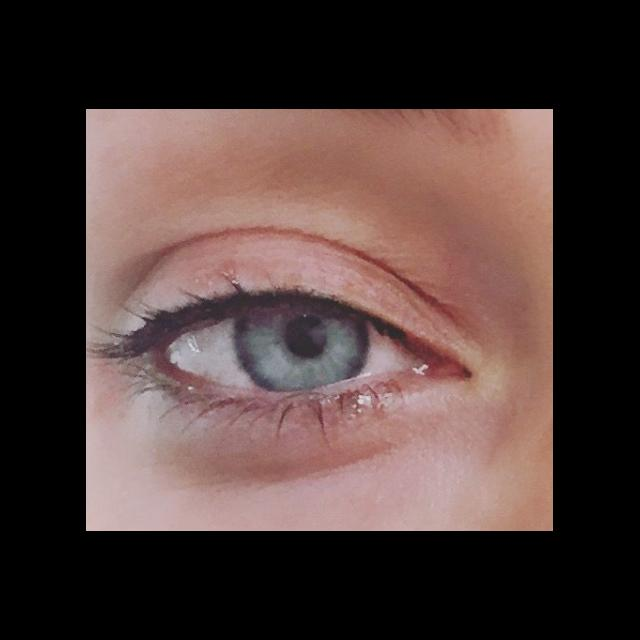eye: (167, 310, 423, 393)
iris: (236, 313, 367, 388)
